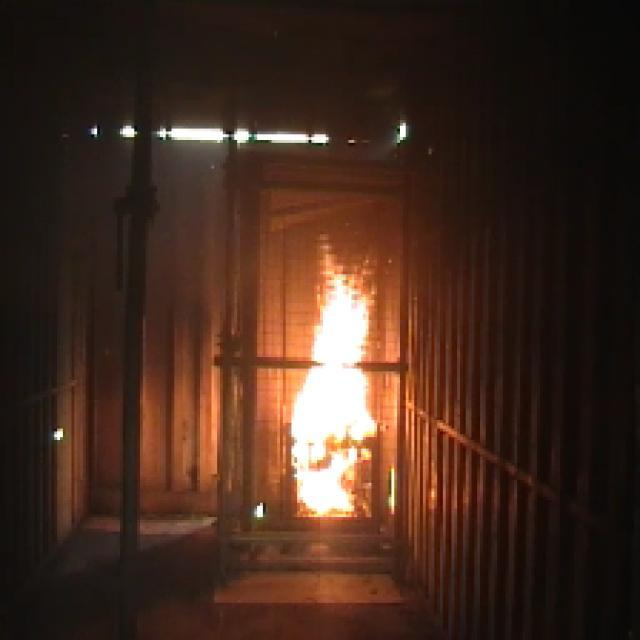Fire: (286, 278, 380, 508)
